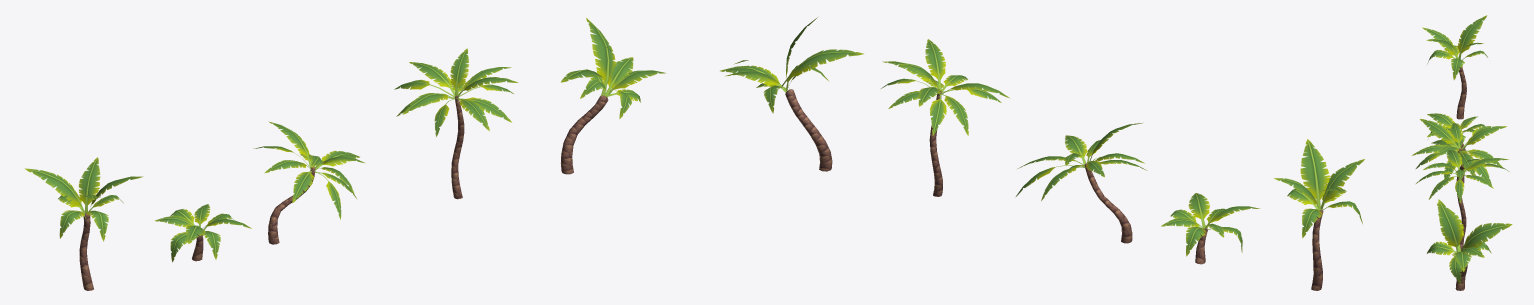
The model's file is Palm_Trees.glb.
3 views of the same model, side by side, from view 1: azimuth 30°, elevation 25°; view 2: azimuth 150°, elevation 25°; view 3: azimuth 270°, elevation 25° (orthographic). The views are drawn at different scales.
Visible parts, largest first — view 1: PalmTree_1, PalmTree_2, PalmTree_3, PalmTree_4, PalmTree_5; view 2: PalmTree_1, PalmTree_3, PalmTree_2, PalmTree_4, PalmTree_5; view 3: PalmTree_2, PalmTree_4, PalmTree_3, PalmTree_1, PalmTree_5.
Part boxes in pixels (bbox=[...]): PalmTree_1: bbox=[394, 48, 518, 199]; PalmTree_2: bbox=[560, 17, 665, 174]; PalmTree_3: bbox=[24, 157, 143, 290]; PalmTree_4: bbox=[253, 121, 365, 244]; PalmTree_5: bbox=[154, 204, 251, 262]; PalmTree_1: bbox=[881, 39, 1010, 196]; PalmTree_3: bbox=[1274, 139, 1364, 290]; PalmTree_2: bbox=[720, 17, 863, 171]; PalmTree_4: bbox=[1015, 122, 1147, 243]; PalmTree_5: bbox=[1161, 193, 1260, 264]; PalmTree_2: bbox=[1426, 199, 1512, 290]; PalmTree_4: bbox=[1412, 119, 1507, 185]; PalmTree_3: bbox=[1422, 15, 1487, 119]; PalmTree_1: bbox=[1415, 150, 1509, 249]; PalmTree_5: bbox=[1427, 113, 1485, 152].
Size of the model in its own units: 25.91 by 5.28 by 5.24.
Materials: 2 (2 with a texture image).
